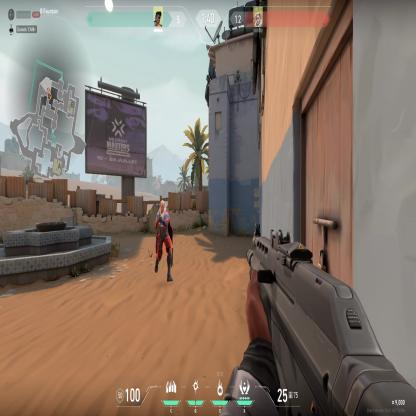enemy: (152, 197, 176, 285)
